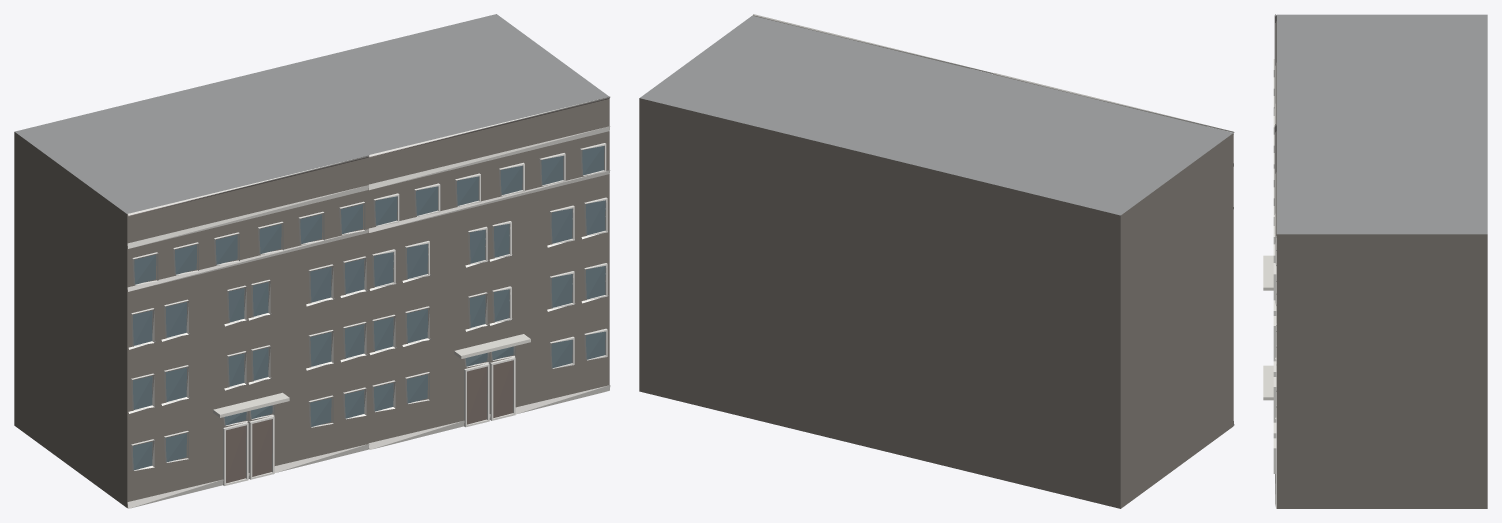
File: chunk-face-theron-9-37-r1.lod2.glb
The picture shows the model from 3 angles, left to right: view 1: azimuth 30°, elevation 25°; view 2: azimuth 150°, elevation 25°; view 3: azimuth 270°, elevation 25°; orthographic projection. The views are drawn at different scales.
Parts seen in each view (by area): view 1: lod2; view 2: lod2; view 3: lod2.
Boxes of the visible parts, x1,y1,x2,y2 form: lod2: [14, 14, 610, 508]; lod2: [639, 14, 1234, 508]; lod2: [1263, 14, 1487, 508].
Size of the model in its own units: 23.84 by 13.93 by 10.27.
